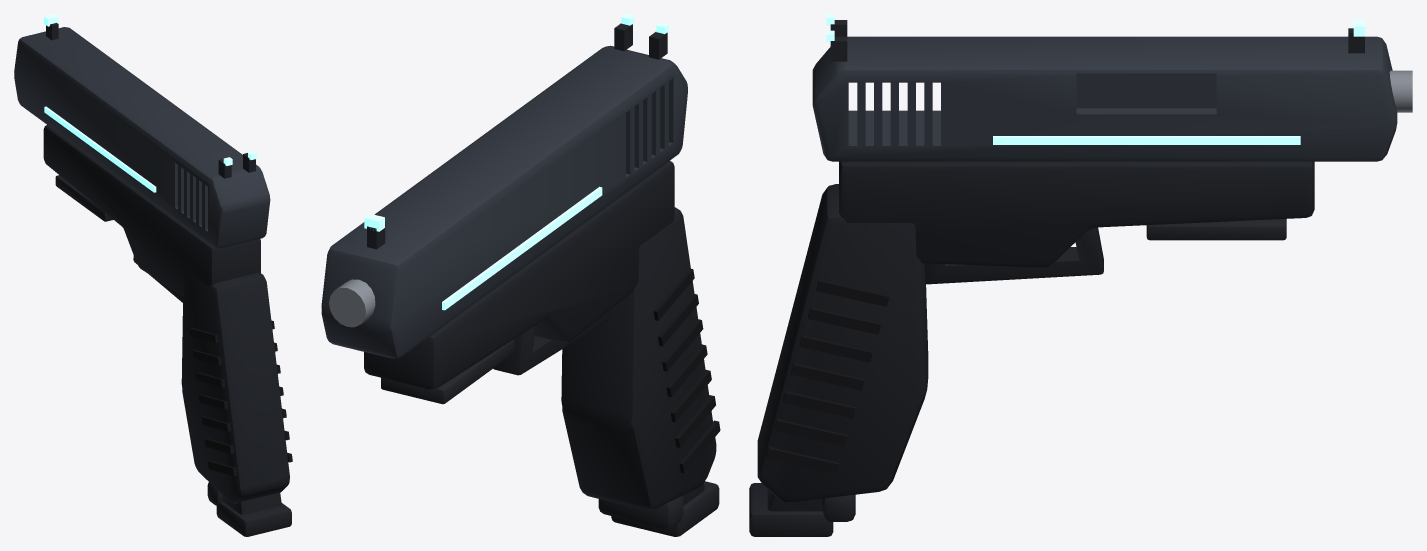
The model's file is arme_pistolet.glb.
3 views of the same model, side by side, from view 1: azimuth 30°, elevation 25°; view 2: azimuth 150°, elevation 25°; view 3: azimuth 270°, elevation 25° (orthographic). The views are drawn at different scales.
Visible parts, largest first — view 1: Pistolet, Culasse, Chargeur; view 2: Pistolet, Culasse, Chargeur; view 3: Pistolet, Culasse, Chargeur.
Part boxes in pixels (bbox=[...]): Pistolet: bbox=[43, 125, 292, 505]; Culasse: bbox=[14, 14, 270, 248]; Chargeur: bbox=[216, 492, 291, 536]; Pistolet: bbox=[329, 161, 720, 528]; Culasse: bbox=[321, 14, 687, 358]; Chargeur: bbox=[611, 481, 719, 536]; Pistolet: bbox=[757, 70, 1412, 521]; Culasse: bbox=[812, 14, 1397, 161]; Chargeur: bbox=[749, 483, 833, 536].
Size of the model in its own units: 0.034 by 0.197 by 0.237.
